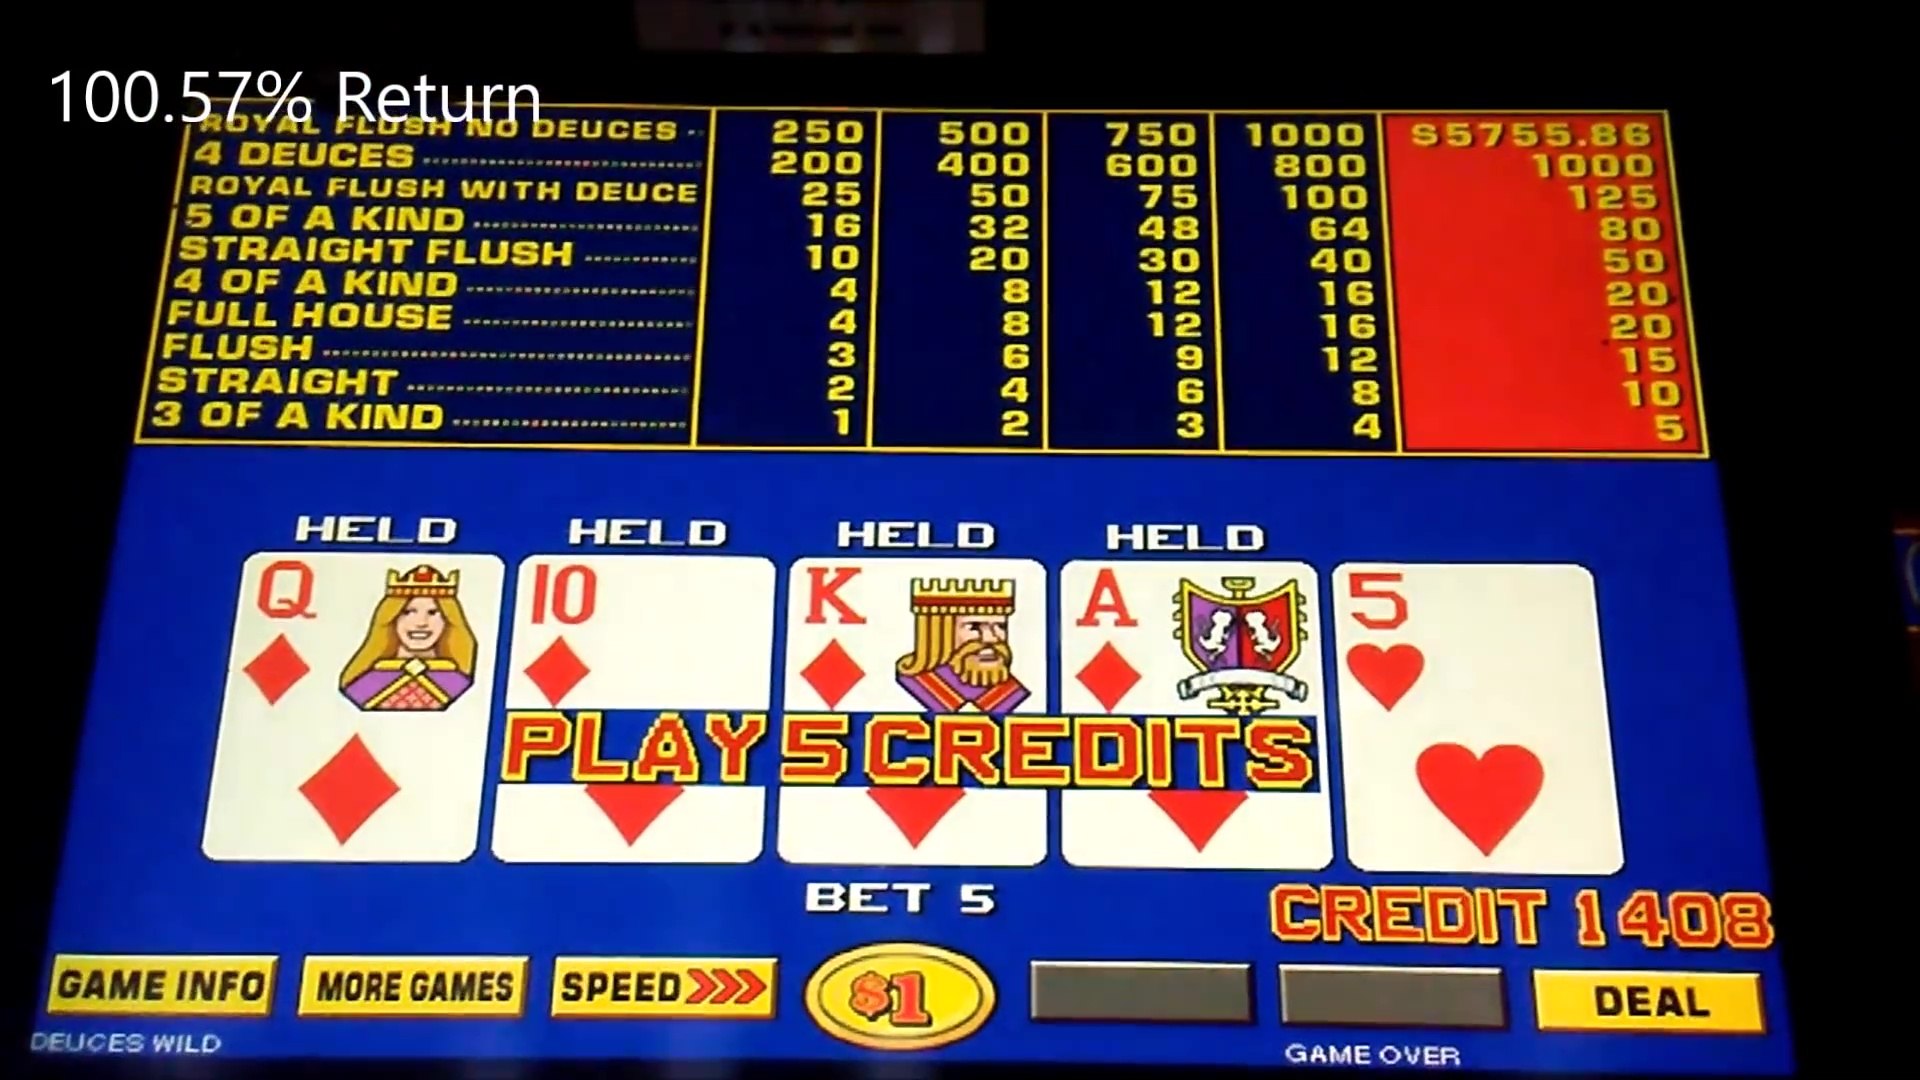5H: (1338, 567, 1598, 712)
AD: (1065, 564, 1323, 709)
KD: (793, 558, 1040, 712)
QD: (247, 550, 481, 702)
TD: (516, 556, 762, 705)
